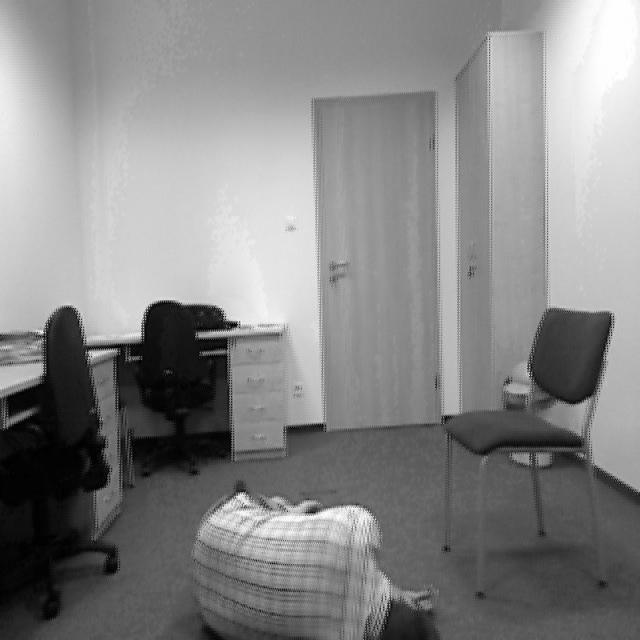lie: (180, 467, 444, 640)
